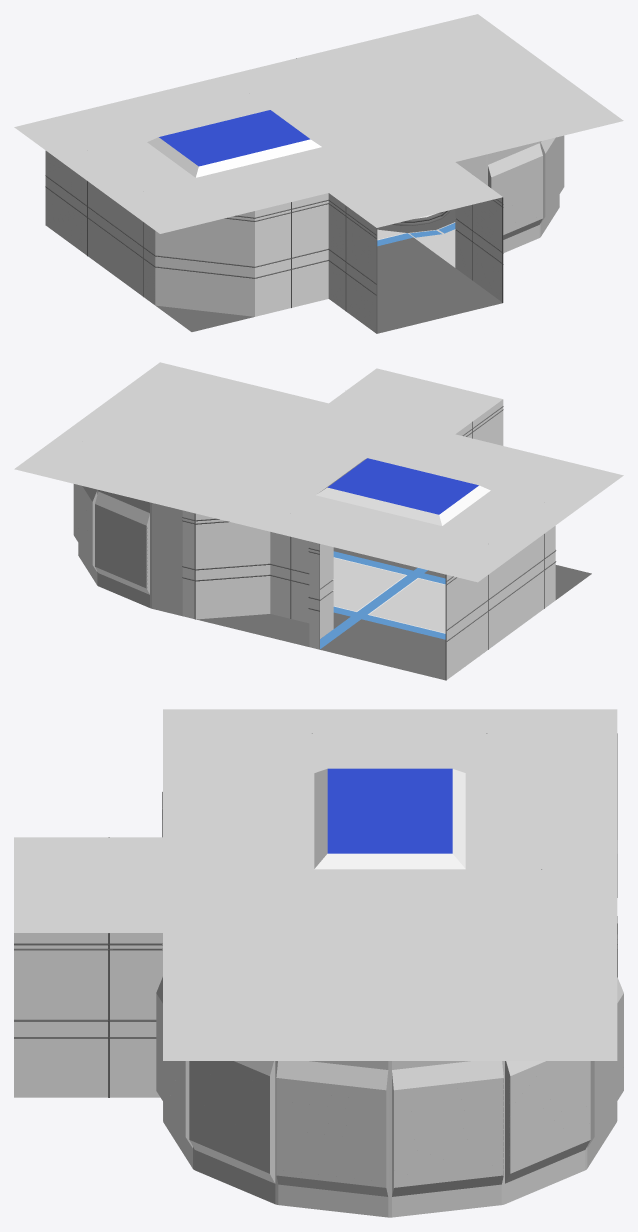
3 renders of one model, top to bottom at view 1: azimuth 30°, elevation 25°; view 2: azimuth 150°, elevation 25°; view 3: azimuth 270°, elevation 25°, orthographic. The views are drawn at different scales.
Visible parts, largest first — view 1: Base_Ceiling, Base_Walls, Base_Floor, Base_BunkerWall; view 2: Base_Ceiling, Base_Walls, Base_Floor, Base_BunkerWall; view 3: Base_Ceiling, Base_BunkerWall, Base_Walls.
Part boxes in pixels (x1=…): Base_Ceiling: x1=14, y1=14, x2=623, y2=233; Base_Walls: x1=45, y1=58, x2=503, y2=333; Base_Floor: x1=156, y1=209, x2=502, y2=333; Base_BunkerWall: x1=455, y1=135, x2=564, y2=252; Base_Ceiling: x1=14, y1=362, x2=623, y2=582; Base_Walls: x1=182, y1=399, x2=556, y2=680; Base_Floor: x1=196, y1=547, x2=591, y2=680; Base_BunkerWall: x1=73, y1=484, x2=182, y2=616; Base_Ceiling: x1=14, y1=709, x2=617, y2=1060; Base_BunkerWall: x1=156, y1=977, x2=623, y2=1217; Base_Walls: x1=14, y1=733, x2=617, y2=1097.
Size of the model in its own units: 22 by 5.09 by 16.12.
